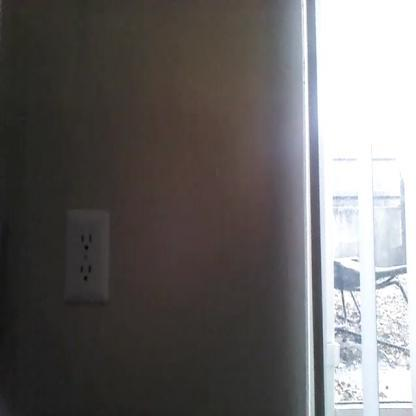OUTLET: (66, 210, 108, 302)
